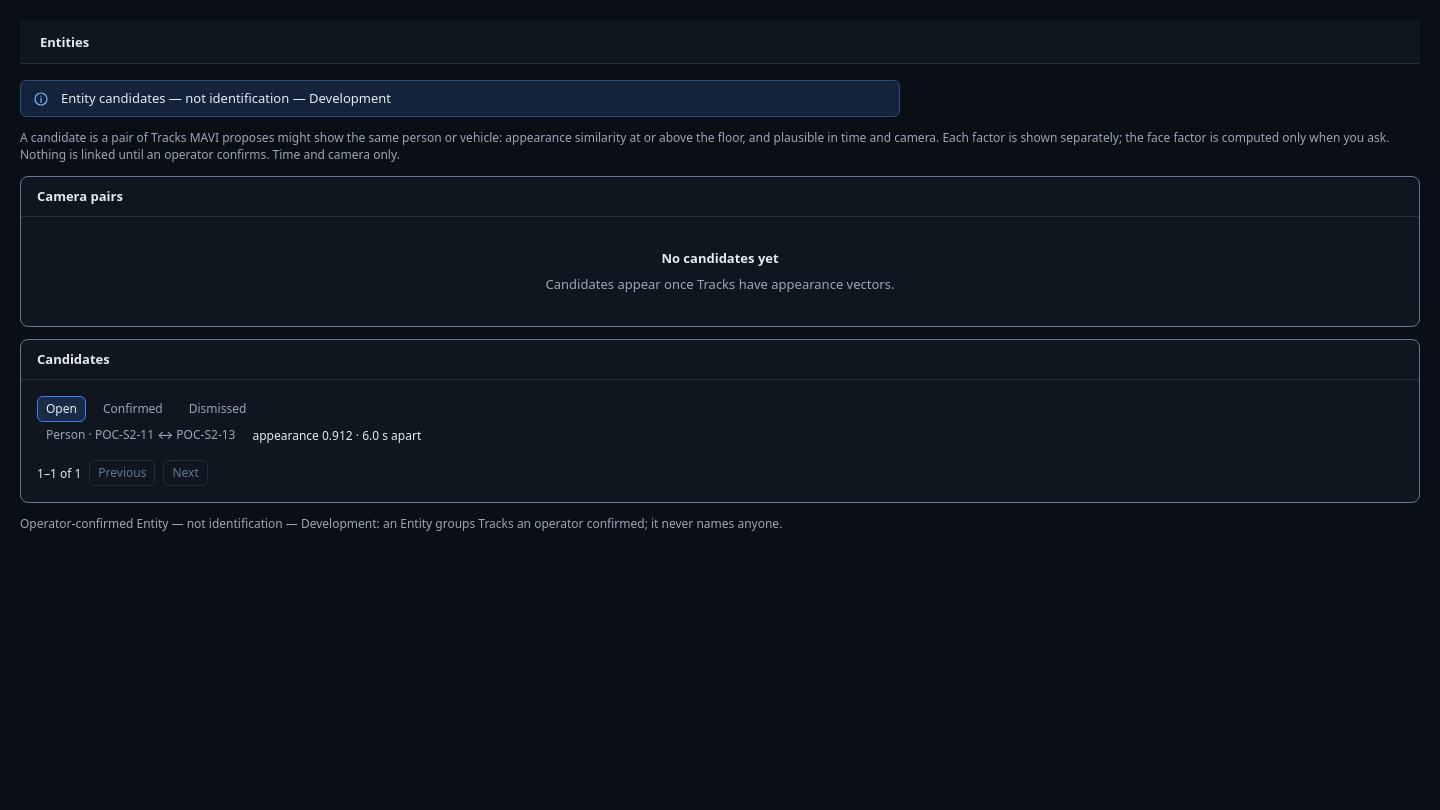
Test: PoC S11-full Entity corrections › offers a merge when confirmation meets two Entities, lets the operator choose which is kept, and names the two Tracks of an implausible refusal
Click the button "Person · POC-S2-11 ↔ POC-S2-13".
click(141, 435)  # box [37, 422, 244, 448]
(page scrolled)
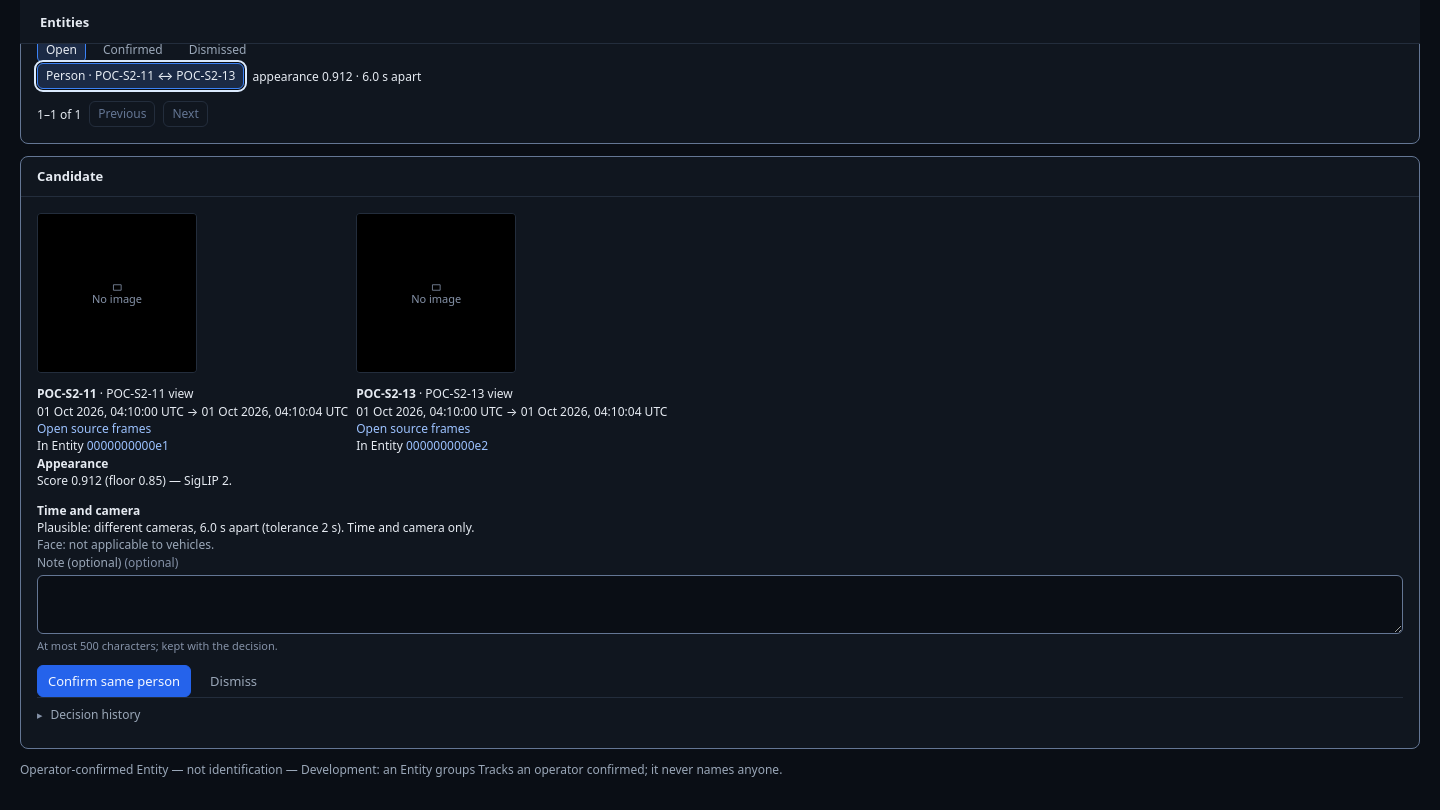
Click the button "Confirm same person".
click(114, 681)  # box [37, 665, 191, 697]
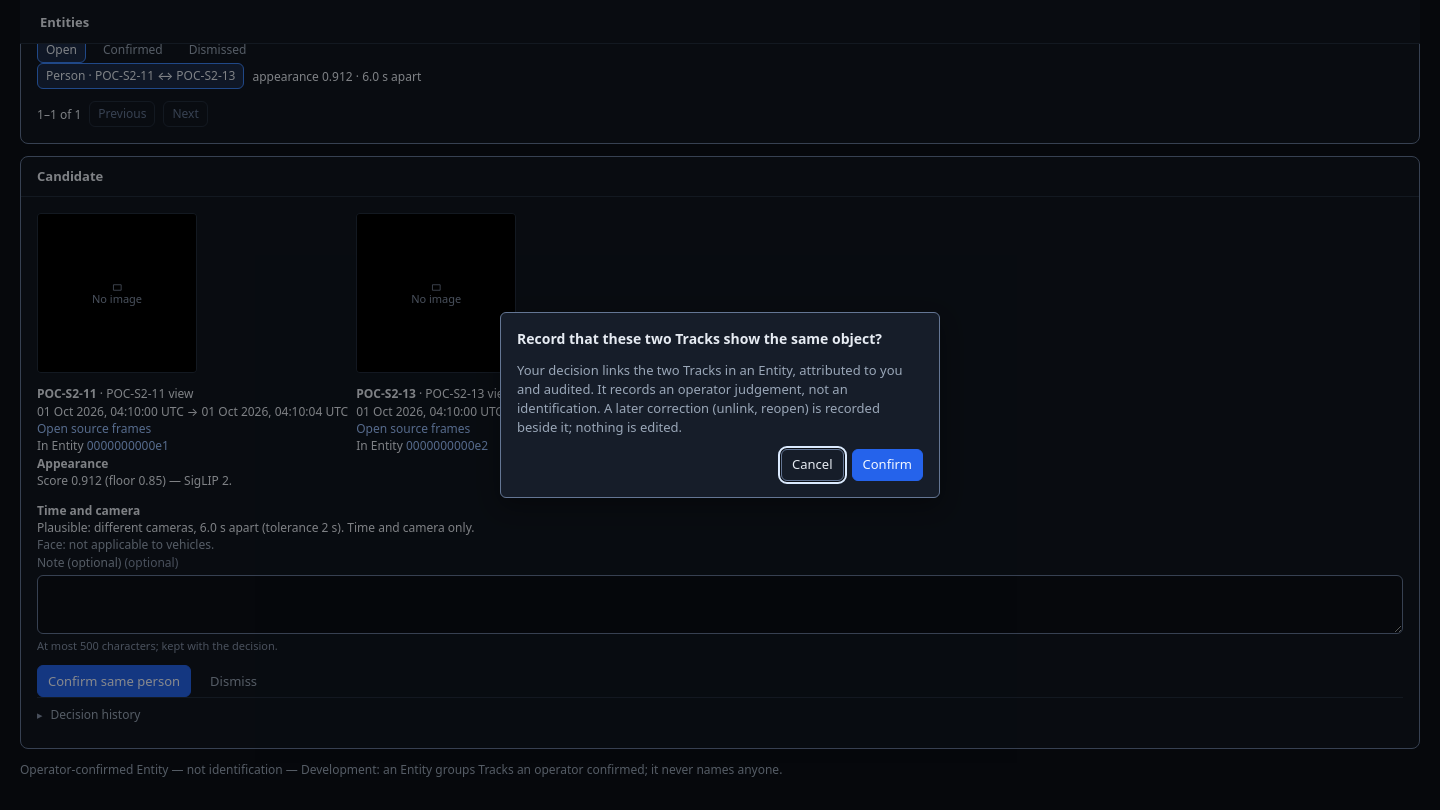
Click the button "Confirm".
click(887, 465)  # box [852, 449, 923, 481]
(page scrolled)
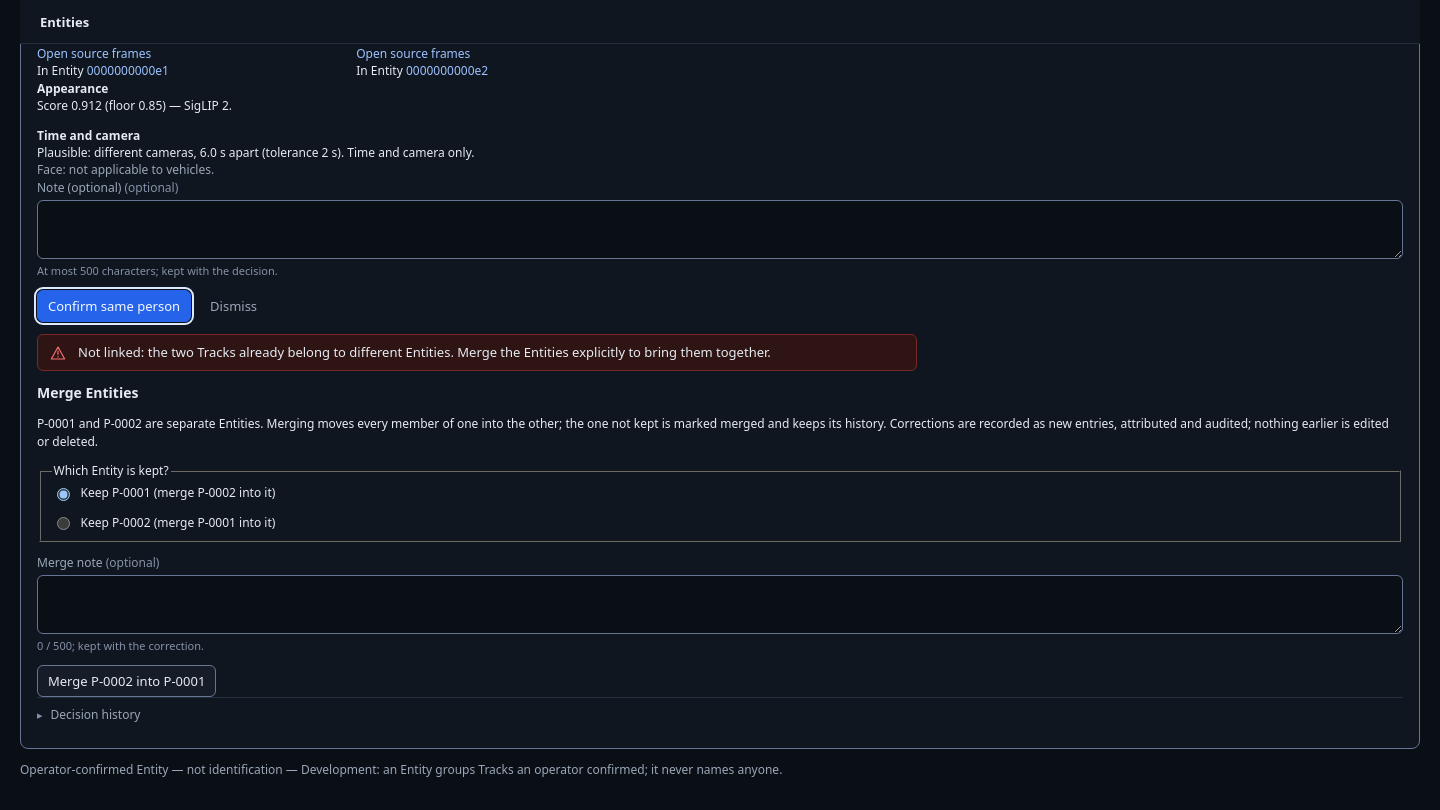
Check: the text "Merge the Entities explicitly" is shown, box [78, 343, 771, 361]
Check: the radio button labelled "Keep P-0002 (merge P-0001 into it)" is shown
Click the radio button labelled "Keep P-0002 (merge P-0001 into it)".
click(63, 524)  # box [56, 518, 70, 530]
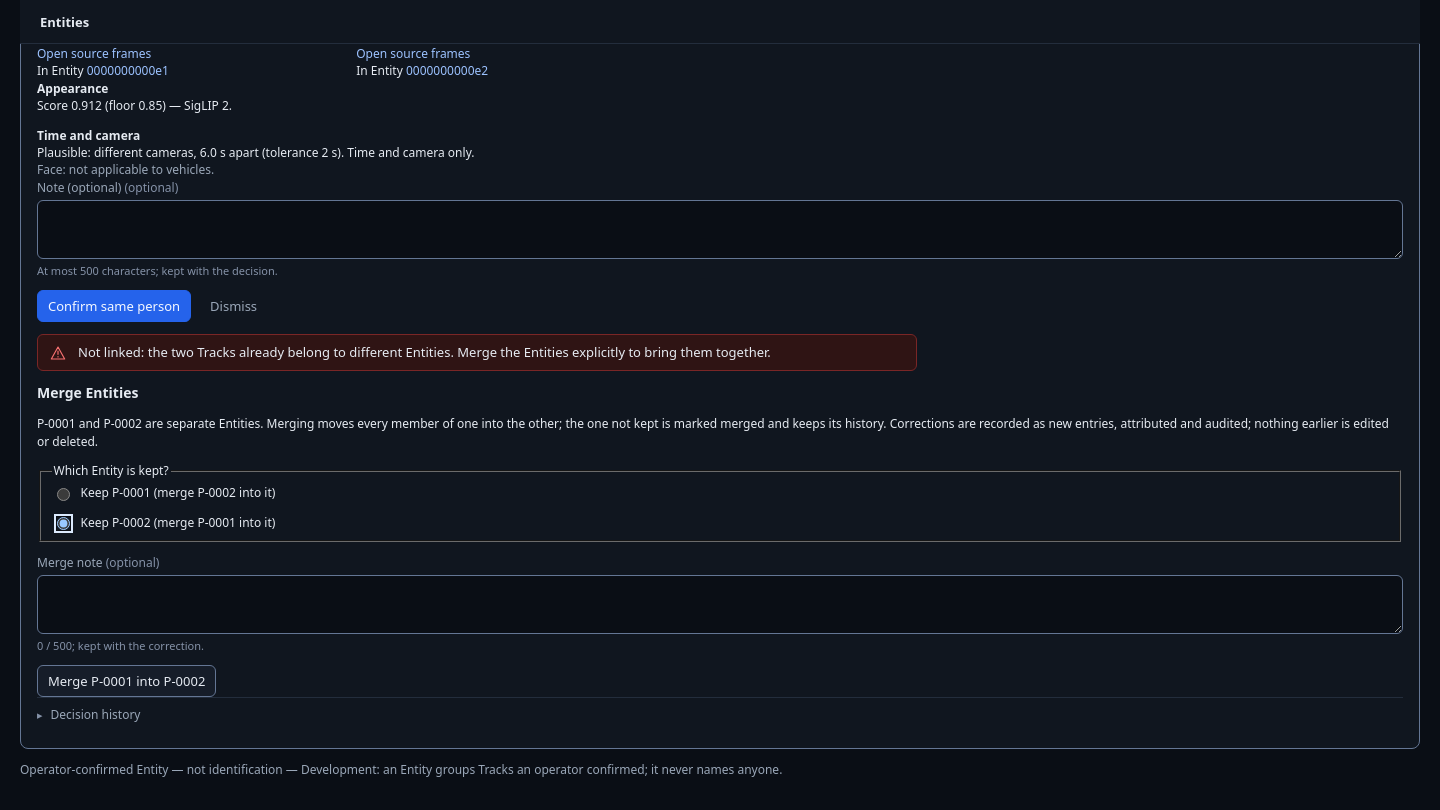
Click the button "Merge P-0001 into P-0002".
click(127, 681)  # box [37, 665, 216, 697]
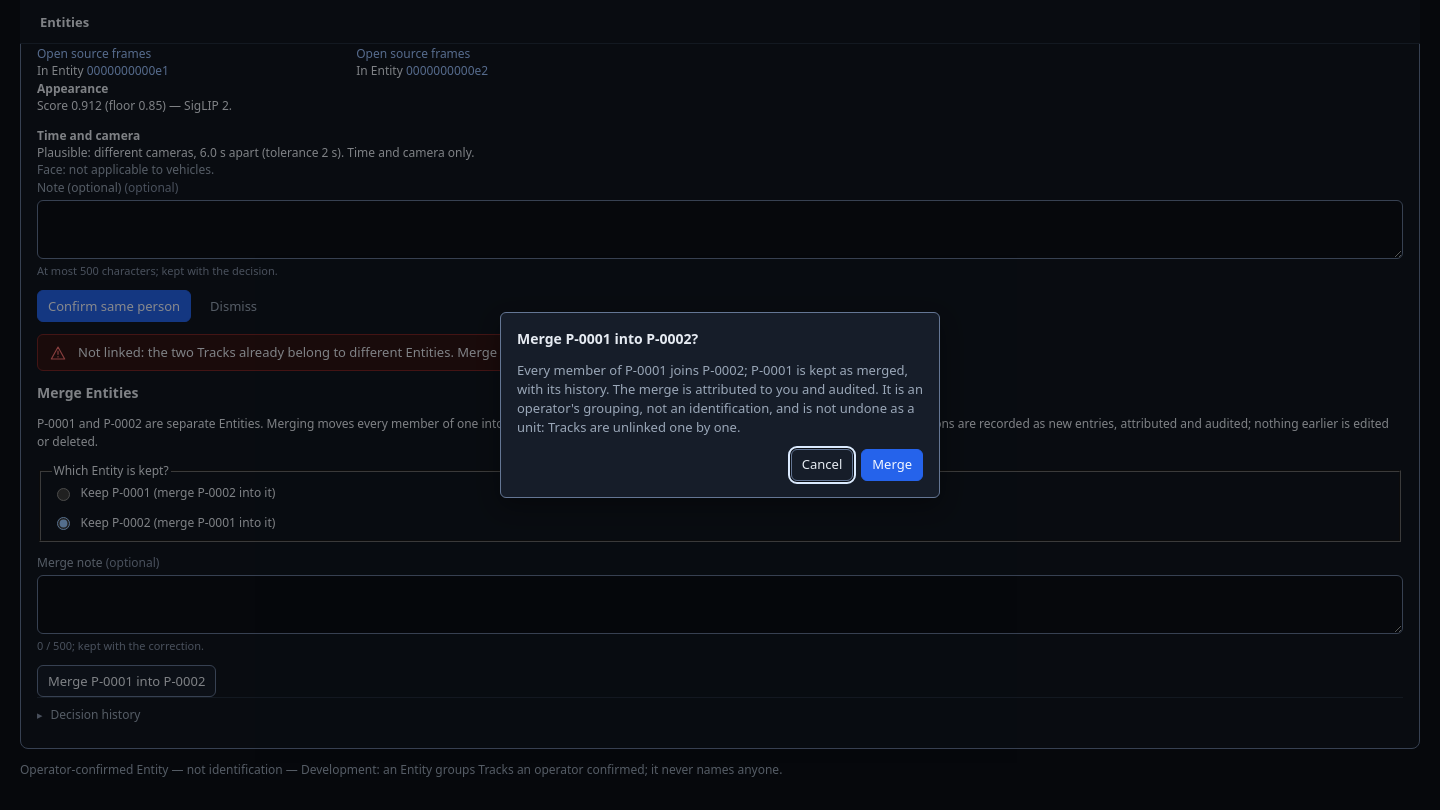
Click the button "Merge".
click(892, 465)  # box [861, 449, 923, 481]
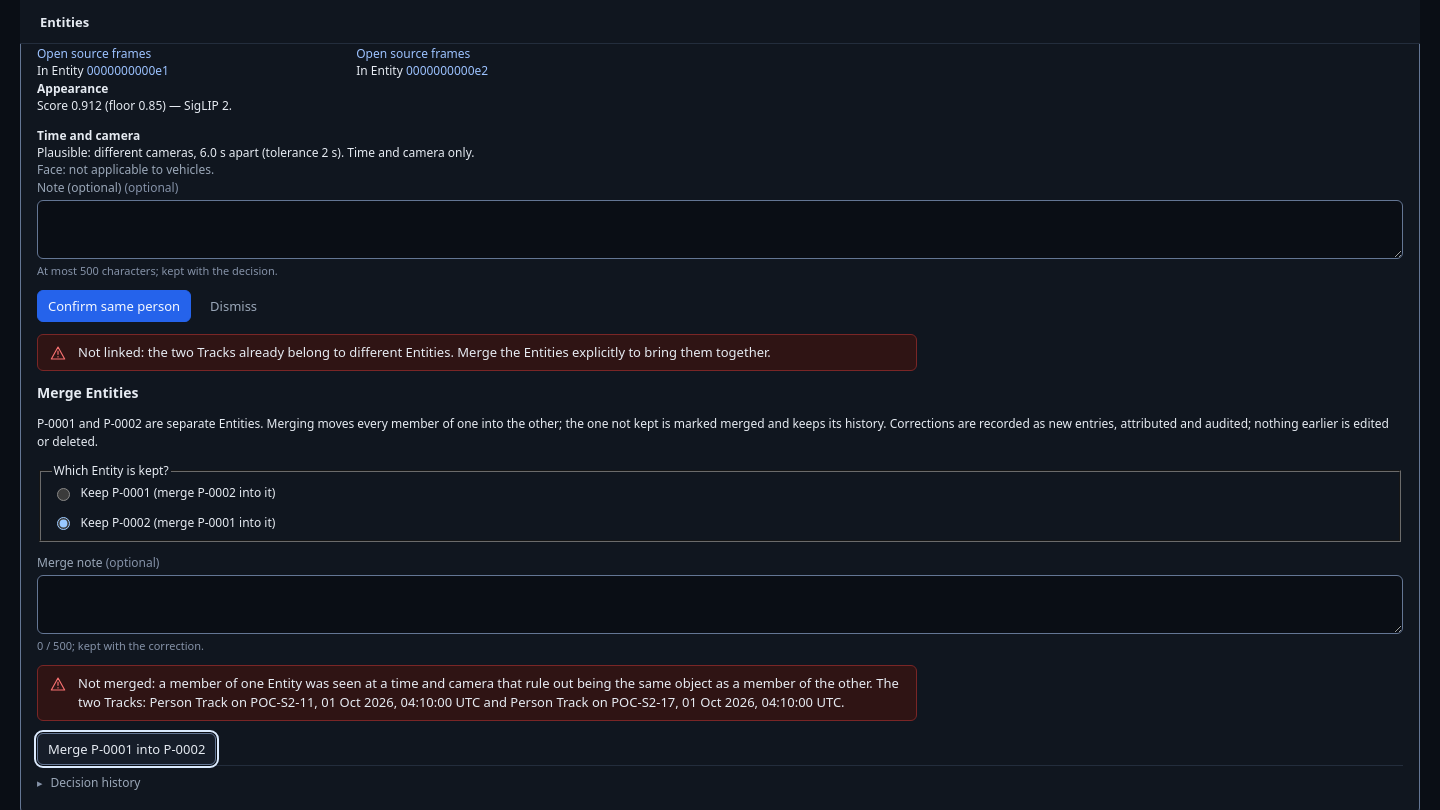
Check: the text "Not merged: a member of one Entity" shows "Person Track on POC-S2-11", box [149, 693, 480, 711]
Check: the text "Not merged: a member of one Entity" shows "Person Track on POC-S2-17", box [510, 693, 841, 711]
